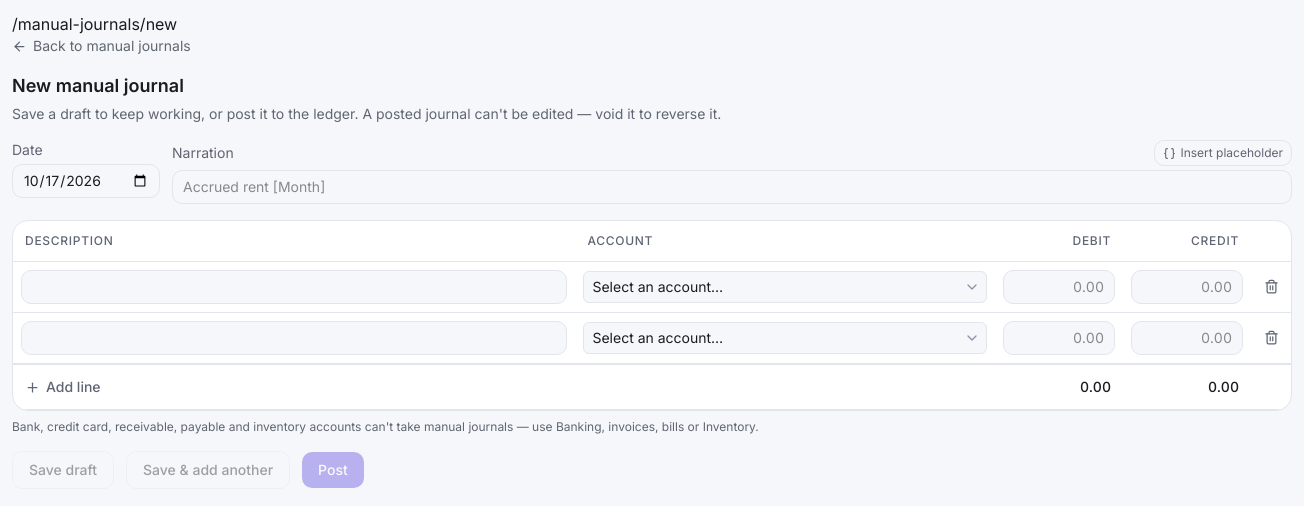
Test: ManualJournalFormPage › Post is disabled until balanced and a narration is entered
Check: the button "Post" is disabled, box [302,452,364,488]
Step 1. Select "6110 · Rent" in the dropdown named "Account for line 1" → x=785, y=287, box [583,271,987,303]
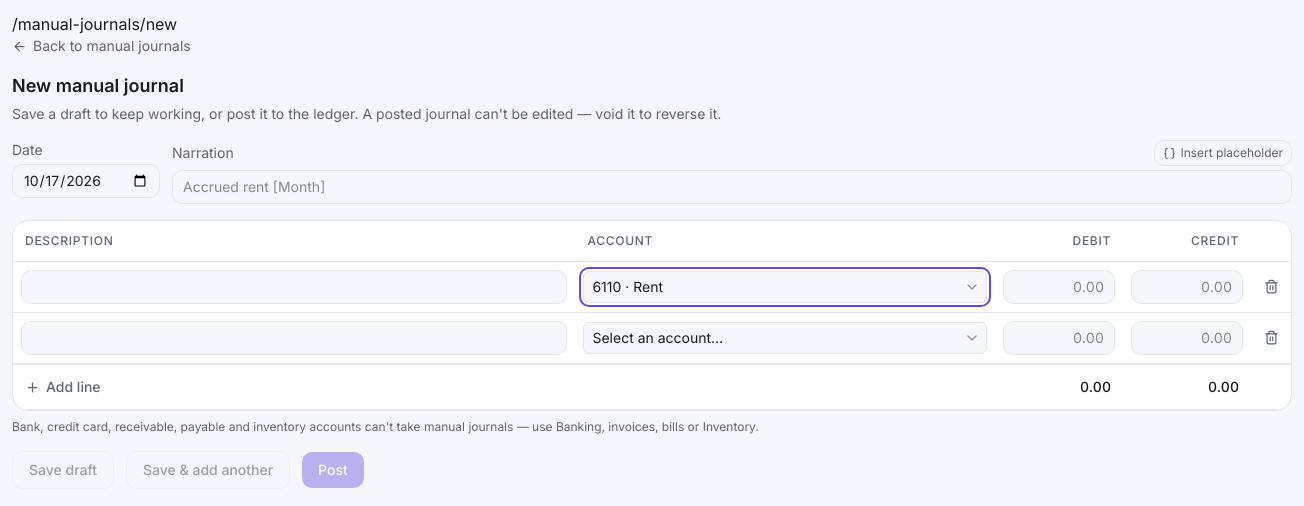
Step 2. Type "1200.00" into the field named "Debit for line 1" → x=1059, y=287, box [1003,270,1115,304]
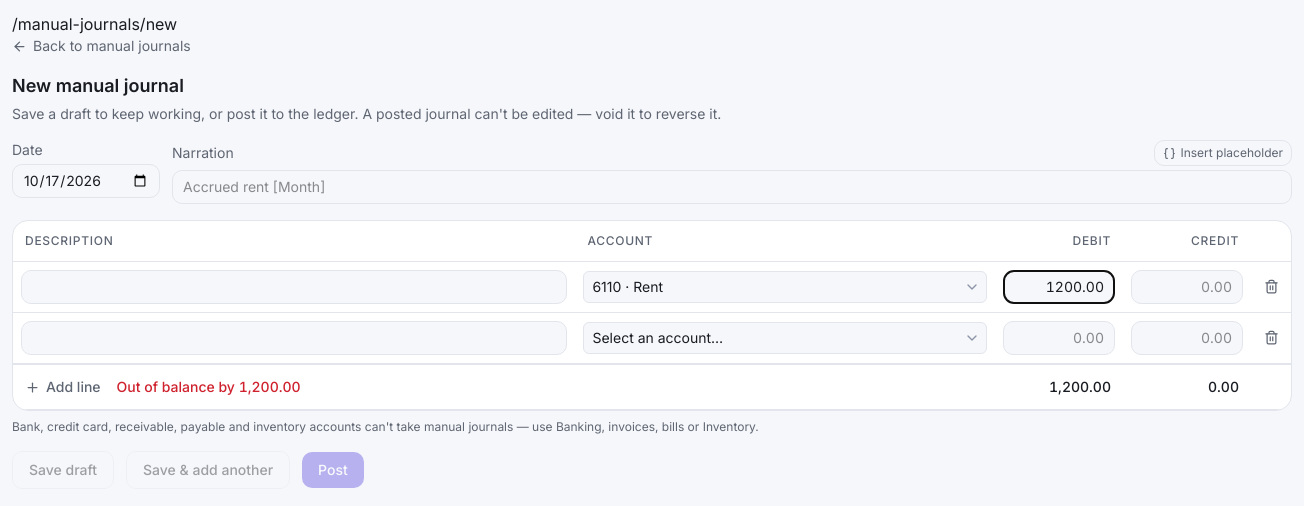
Step 3. Select "2150 · Accruals" in the dropdown named "Account for line 2" → x=785, y=338, box [583,322,987,354]
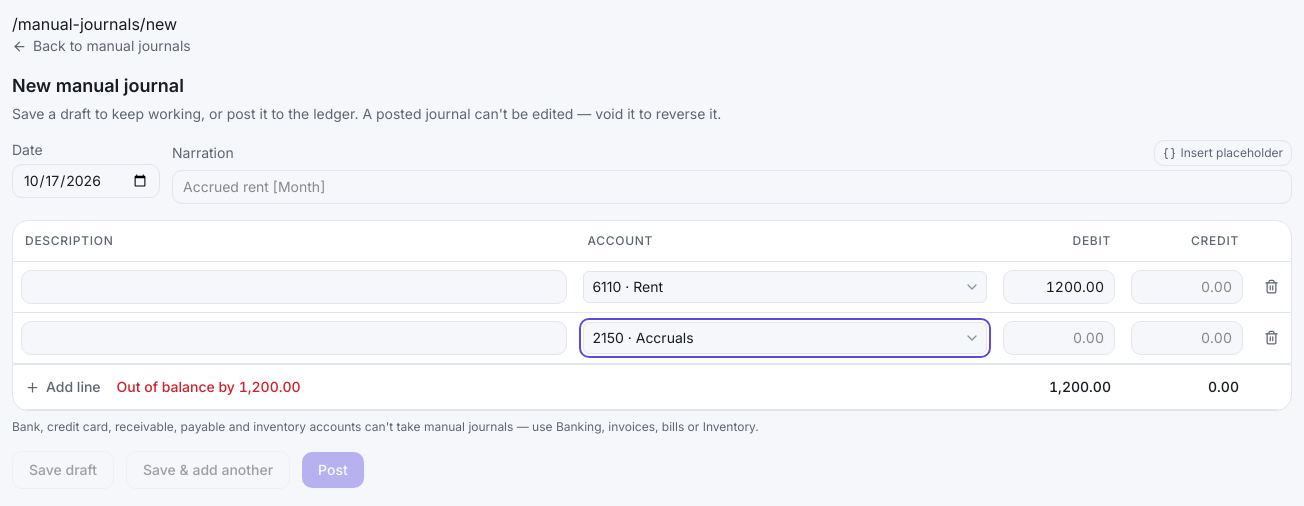
Step 4. Type "1200.00" into the field named "Credit for line 2" → x=1187, y=338, box [1131,321,1243,355]
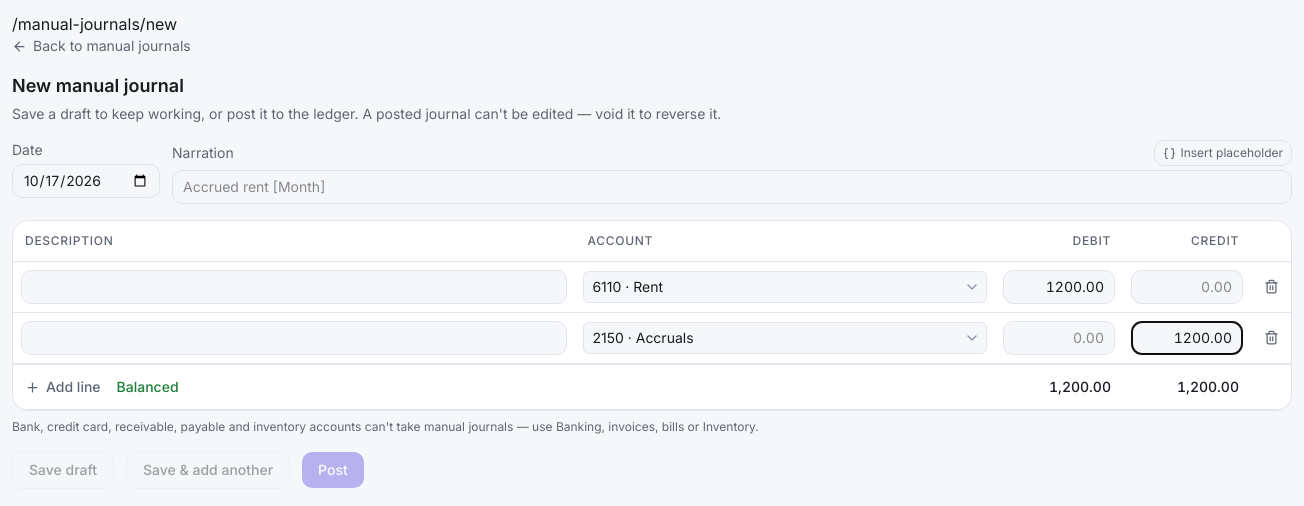
Check: the button "Post" is disabled, box [302,452,364,488]
Step 5. Type "Accrued rent" into the field labelled "Narration" → x=732, y=187, box [172,170,1292,204]
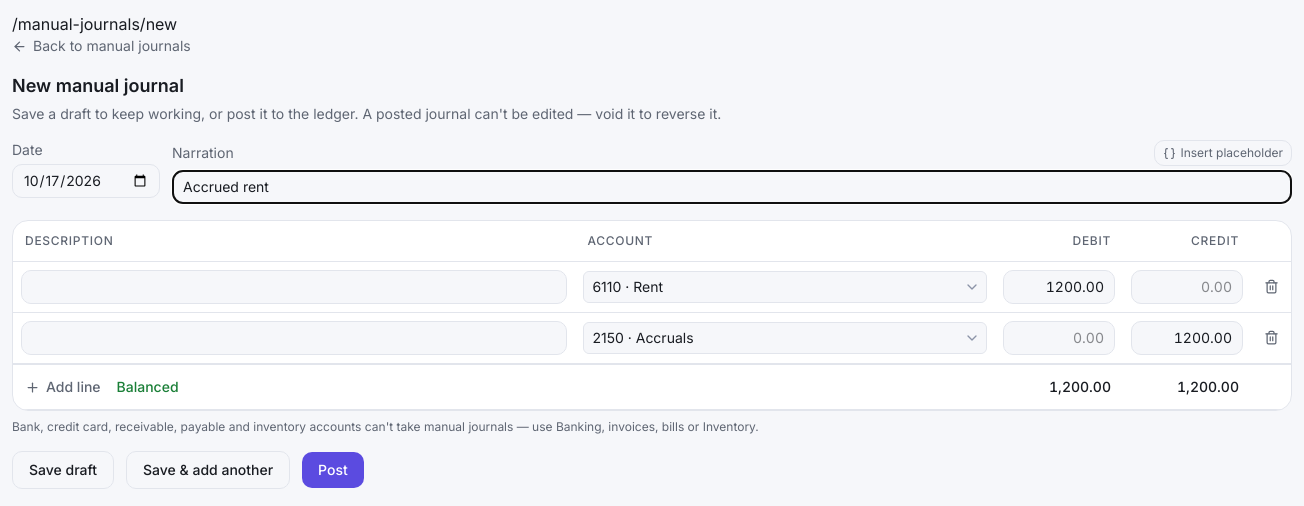
Check: the button "Post" is enabled, box [302,452,364,488]
